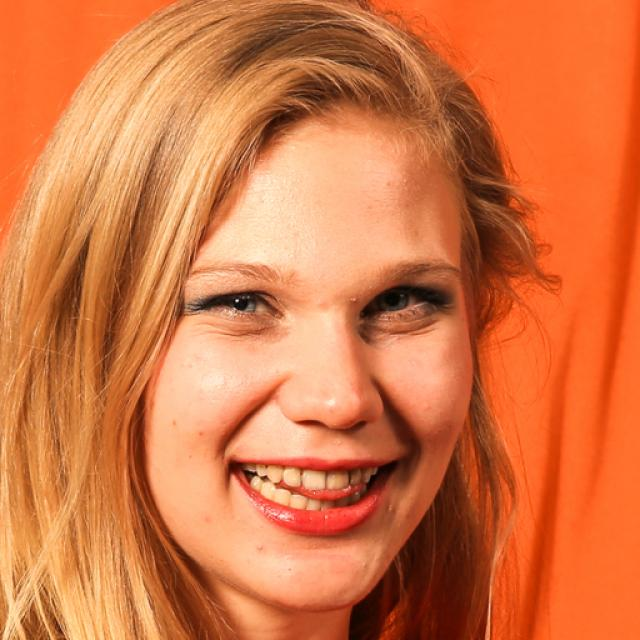Acne: (333, 285, 369, 310), (246, 530, 268, 565)
